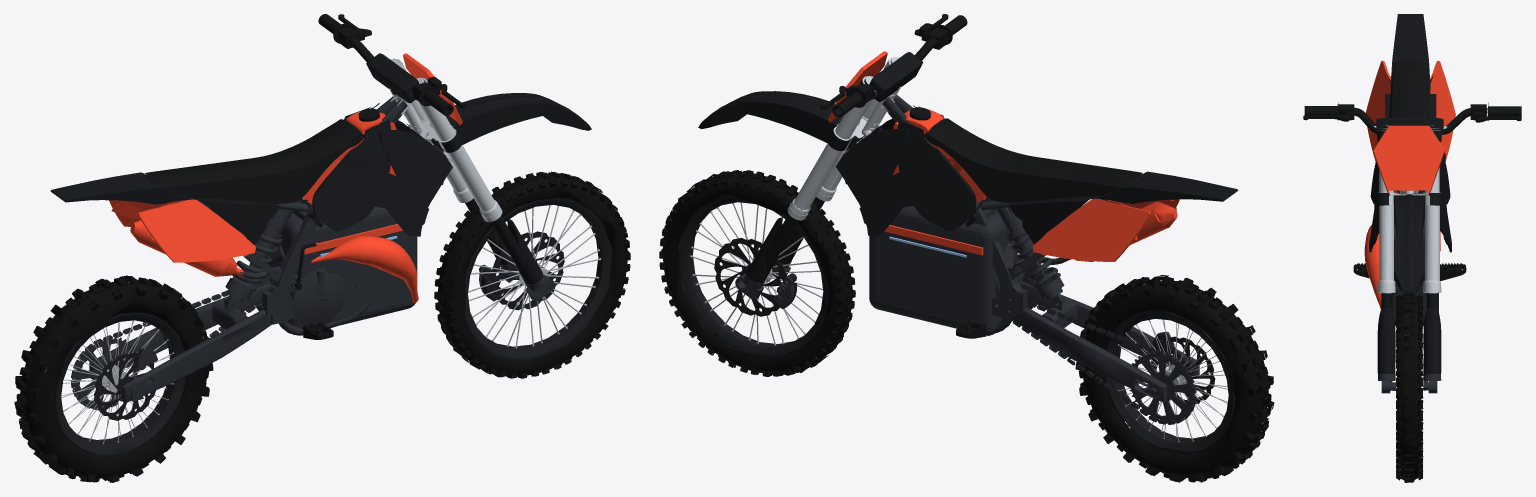
File: sport.glb
3 views of the same model, side by side, from view 1: azimuth 30°, elevation 25°; view 2: azimuth 150°, elevation 25°; view 3: azimuth 270°, elevation 25° (orthographic). The views are drawn at different scales.
Visible parts, largest first — view 1: Object_13, Object_15, Object_3, Object_2, Object_14, GT_stripe, GT_battery, Object_11, Object_10, Object_5; view 2: Object_13, Object_15, Object_3, GT_battery, Object_14, Object_2, GT_stripe, Object_11, Object_5, Object_10; view 3: Object_15, GT_stripe, Object_14, Object_13, Object_5, Object_10, Object_3, GT_battery.
Boxes of the visible parts, bbox=[...] form: Object_13: bbox=[14, 171, 630, 482]; Object_15: bbox=[50, 53, 591, 284]; Object_3: bbox=[71, 93, 554, 410]; Object_2: bbox=[54, 198, 612, 454]; Object_14: bbox=[145, 14, 525, 339]; GT_stripe: bbox=[109, 53, 462, 262]; GT_battery: bbox=[269, 201, 417, 328]; Object_11: bbox=[61, 205, 601, 443]; Object_10: bbox=[130, 111, 418, 302]; Object_5: bbox=[388, 58, 502, 222]; Object_13: bbox=[659, 170, 1274, 482]; Object_15: bbox=[698, 52, 1238, 282]; Object_3: bbox=[735, 91, 1199, 424]; GT_battery: bbox=[869, 201, 1017, 335]; Object_14: bbox=[764, 14, 1142, 338]; Object_2: bbox=[678, 196, 1235, 451]; GT_stripe: bbox=[828, 51, 1179, 261]; Object_11: bbox=[690, 202, 1227, 442]; Object_5: bbox=[787, 57, 901, 220]; Object_10: bbox=[892, 109, 1177, 273]; Object_15: bbox=[1369, 14, 1451, 373]; GT_stripe: bbox=[1366, 61, 1455, 251]; Object_14: bbox=[1303, 59, 1521, 309]; Object_13: bbox=[1396, 293, 1423, 482]; Object_5: bbox=[1373, 125, 1446, 293]; Object_10: bbox=[1364, 76, 1423, 309]; Object_3: bbox=[1378, 126, 1449, 393]; GT_battery: bbox=[1392, 190, 1438, 326].
Size of the model in its own units: 1.98 by 1.11 by 0.7042.
